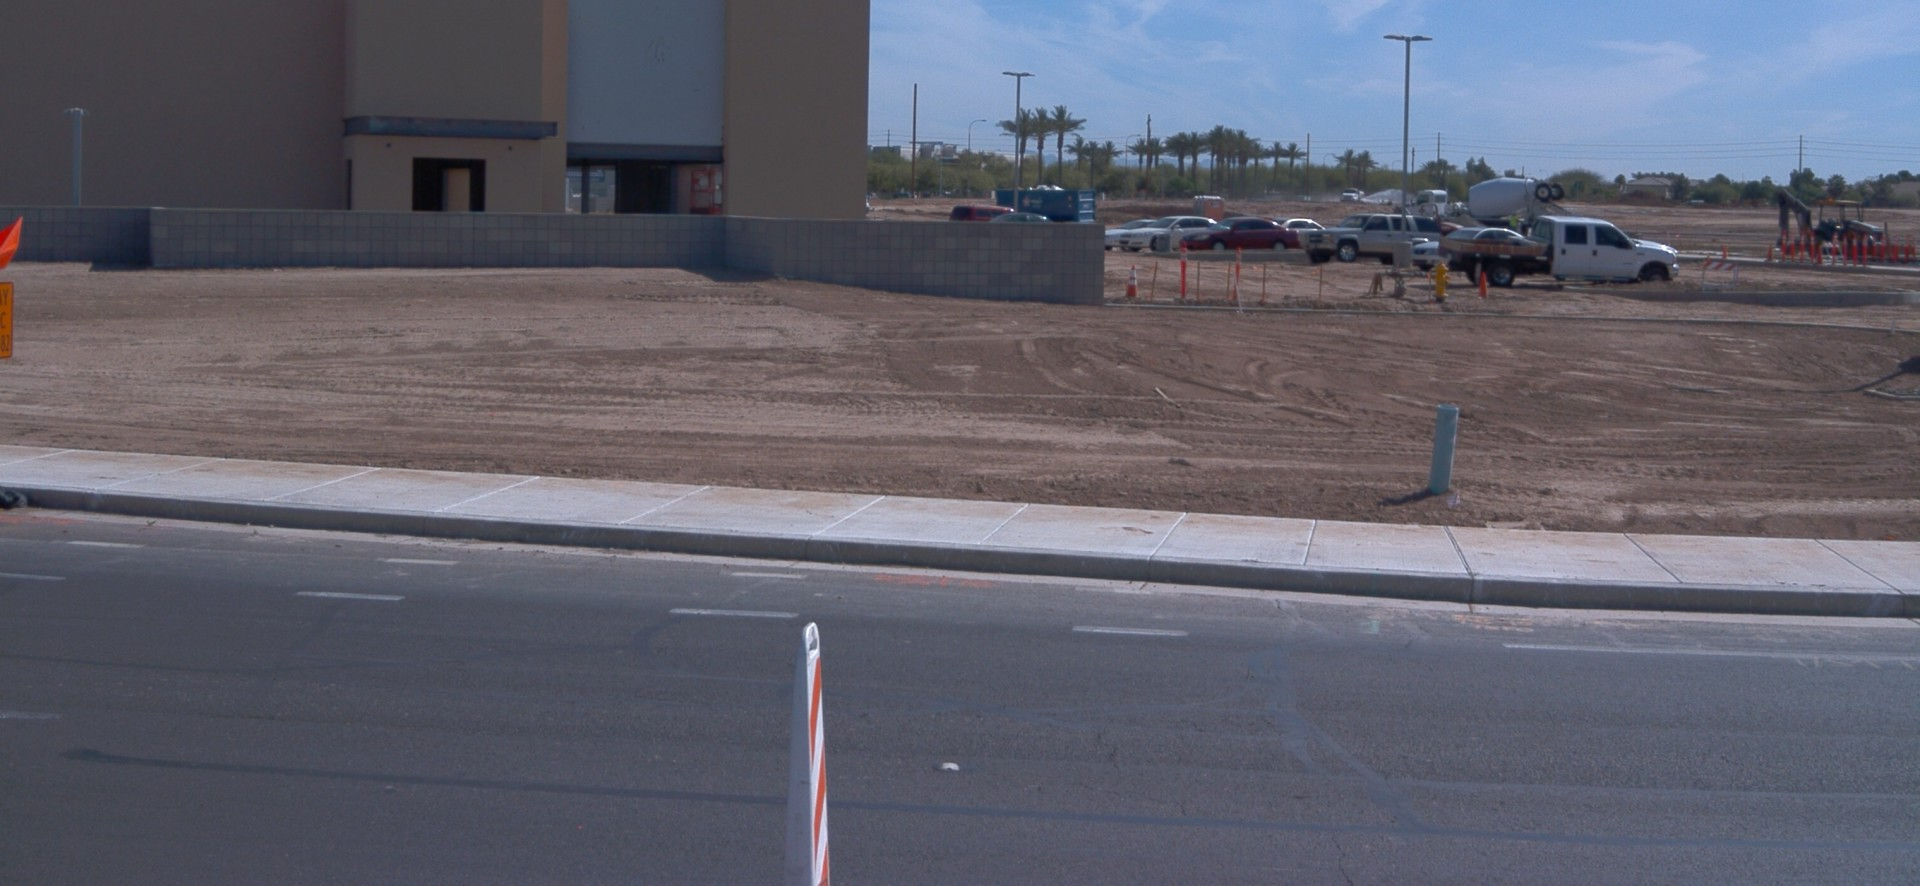TYPE_PEDESTRIAN: (1510, 210, 1522, 234)
TYPE_VEHICLE: (1436, 216, 1679, 288), (1775, 183, 1915, 267), (1400, 173, 1581, 233), (1298, 212, 1438, 264), (1412, 227, 1524, 272), (1178, 214, 1303, 254), (1117, 213, 1221, 253), (1394, 200, 1462, 238), (1102, 217, 1159, 252), (1273, 216, 1325, 250), (948, 206, 1016, 224), (986, 212, 1053, 224), (1341, 186, 1364, 206), (865, 185, 872, 219)
